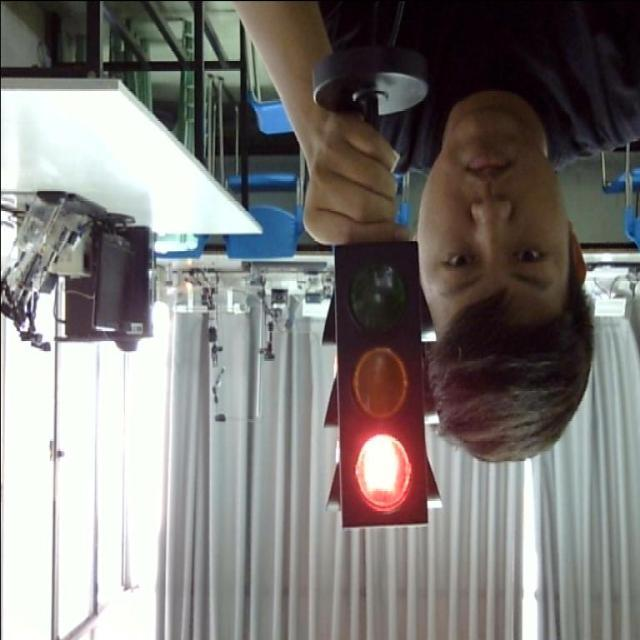red light: (352, 428, 418, 516)
